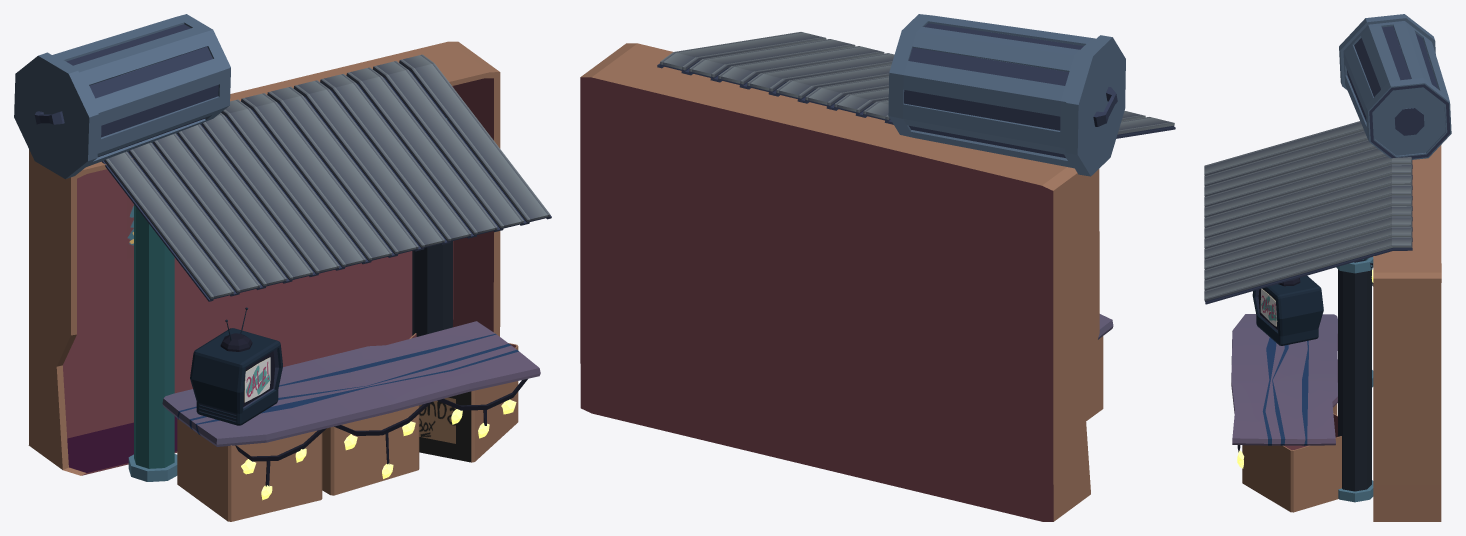
Rendered from EXT_BigCityx2_LittleCubClub.fbx.
The picture shows the model from 3 angles, left to right: view 1: azimuth 30°, elevation 25°; view 2: azimuth 150°, elevation 25°; view 3: azimuth 270°, elevation 25°; orthographic projection. The views are drawn at different scales.
Parts seen in each view (by area): view 1: CubClub.Awning, plank.counter, ScreenGuy.008; view 2: CubClub.Awning, plank.counter; view 3: CubClub.Awning, plank.counter, ScreenGuy.008.
Boxes of the visible parts, x1,y1,x2,y2 form: CubClub.Awning: (14, 14, 551, 481); plank.counter: (162, 321, 540, 521); ScreenGuy.008: (190, 307, 282, 425); CubClub.Awning: (580, 14, 1175, 521); plank.counter: (1084, 314, 1113, 421); CubClub.Awning: (1204, 14, 1451, 521); plank.counter: (1231, 314, 1341, 512); ScreenGuy.008: (1252, 275, 1323, 345).
Bounding box in the file's own units: 645 × 568 × 379.
